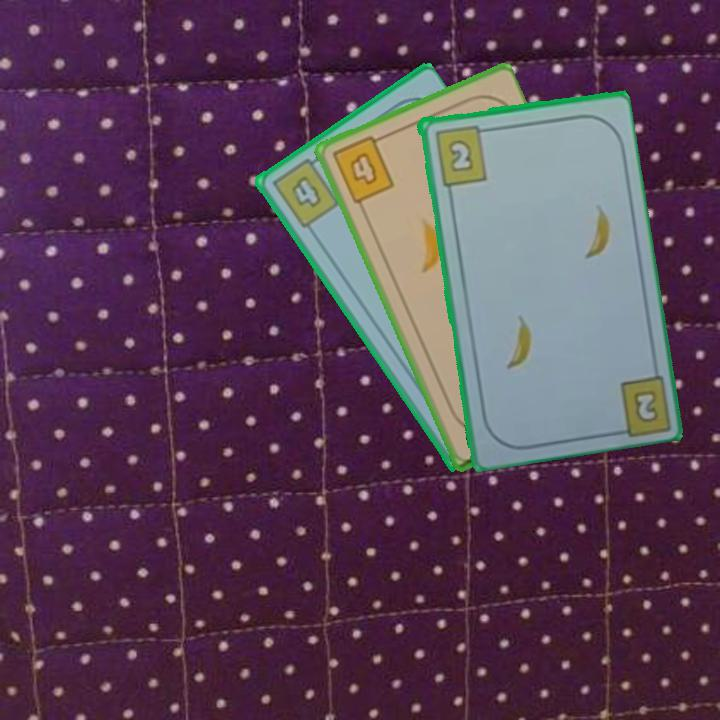2b: (607, 368, 672, 437), (431, 121, 492, 188)
4b: (268, 151, 342, 232), (328, 131, 397, 207)
